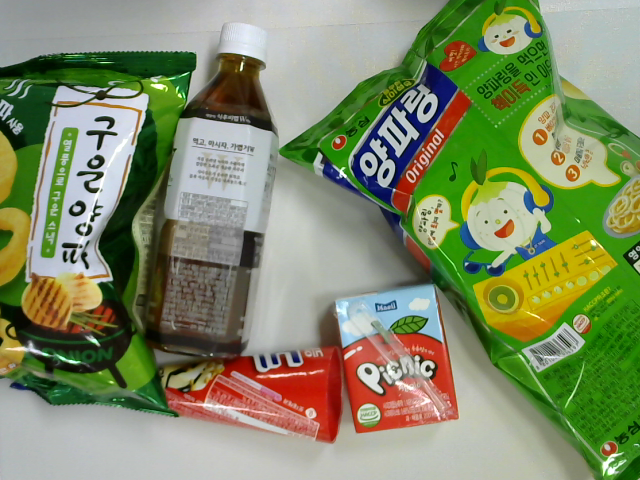Grilled_Onions: (1, 51, 197, 416)
Oninon_Ring: (275, 1, 640, 480)
Picnic_Apple: (331, 284, 460, 440)
Post-meal_recipe_W_tea_500ml: (142, 21, 281, 361)
World_Cone_Banila: (148, 345, 343, 450)
